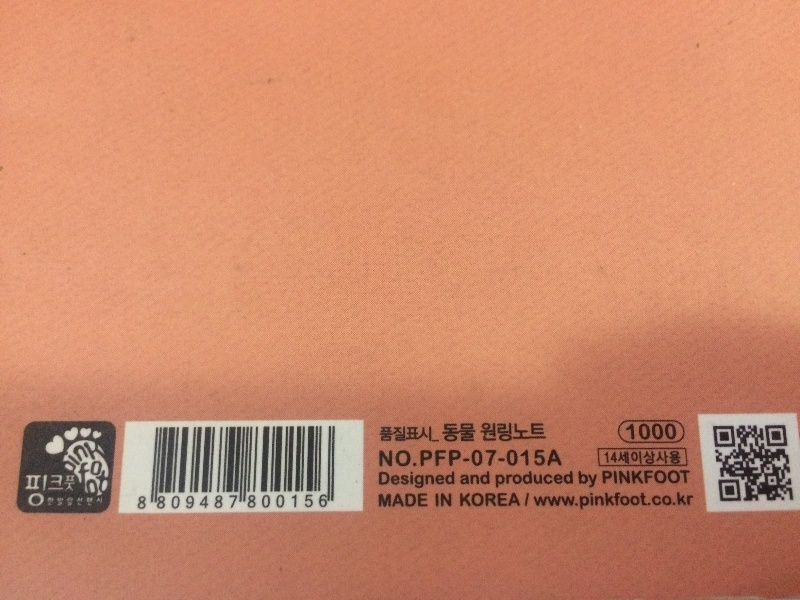text: (33, 474, 48, 508), (49, 474, 64, 508), (97, 468, 112, 502), (65, 437, 80, 468), (81, 437, 96, 468), (84, 468, 96, 502), (97, 437, 110, 468), (81, 462, 96, 488), (65, 474, 76, 508), (545, 491, 560, 512), (561, 491, 576, 512), (577, 491, 592, 512), (593, 491, 608, 512), (609, 491, 624, 512), (625, 491, 640, 512), (641, 491, 656, 512), (657, 491, 672, 512), (673, 491, 688, 512), (385, 470, 400, 491), (401, 470, 416, 491), (417, 470, 432, 491), (433, 470, 448, 491), (481, 422, 496, 443), (497, 422, 512, 443), (513, 422, 528, 443), (529, 422, 544, 443), (449, 423, 464, 443), (401, 449, 417, 467), (145, 494, 160, 512), (161, 494, 176, 512), (177, 494, 192, 512), (193, 494, 208, 512), (209, 494, 224, 512), (225, 494, 240, 512), (241, 494, 256, 512), (257, 494, 272, 512), (273, 494, 288, 512), (289, 494, 304, 512), (305, 494, 320, 512), (497, 470, 512, 488), (513, 470, 528, 488), (529, 470, 544, 488), (545, 470, 560, 488), (385, 449, 400, 467), (433, 449, 448, 467), (449, 449, 464, 467), (465, 449, 480, 467), (481, 449, 496, 467), (497, 449, 512, 467), (513, 449, 528, 467), (529, 449, 544, 467), (545, 449, 560, 467), (578, 470, 592, 489), (625, 423, 640, 440), (641, 423, 656, 440), (657, 423, 672, 440), (609, 469, 624, 485), (625, 469, 640, 485), (641, 469, 656, 485), (657, 469, 672, 485), (673, 469, 688, 485), (465, 470, 480, 486), (385, 426, 400, 442), (401, 426, 416, 442), (417, 426, 432, 442), (385, 493, 400, 508), (401, 493, 416, 508), (465, 493, 480, 508), (481, 493, 496, 508), (497, 493, 512, 508), (513, 493, 528, 508), (465, 423, 476, 443), (561, 470, 573, 488), (420, 449, 432, 467), (534, 491, 544, 512), (609, 451, 624, 465), (625, 451, 640, 465), (641, 451, 656, 465), (657, 451, 672, 465), (435, 492, 448, 508), (26, 474, 32, 508), (49, 497, 64, 508), (65, 497, 80, 508), (81, 497, 96, 508), (417, 493, 428, 508), (97, 462, 103, 488), (481, 470, 490, 486), (321, 494, 328, 512), (378, 470, 384, 491), (449, 470, 455, 491), (442, 423, 448, 443), (593, 470, 599, 489), (673, 451, 681, 465), (138, 494, 144, 512), (689, 491, 694, 512), (602, 469, 608, 485), (61, 437, 64, 468), (378, 493, 384, 508), (379, 449, 384, 467), (459, 493, 464, 508), (673, 423, 677, 440), (97, 497, 103, 508), (460, 470, 464, 486), (380, 426, 384, 442), (604, 451, 608, 465), (561, 449, 564, 467), (449, 492, 452, 508), (545, 422, 547, 443), (494, 470, 496, 488), (113, 468, 114, 502), (79, 462, 80, 488), (689, 469, 690, 485), (529, 493, 530, 508)
